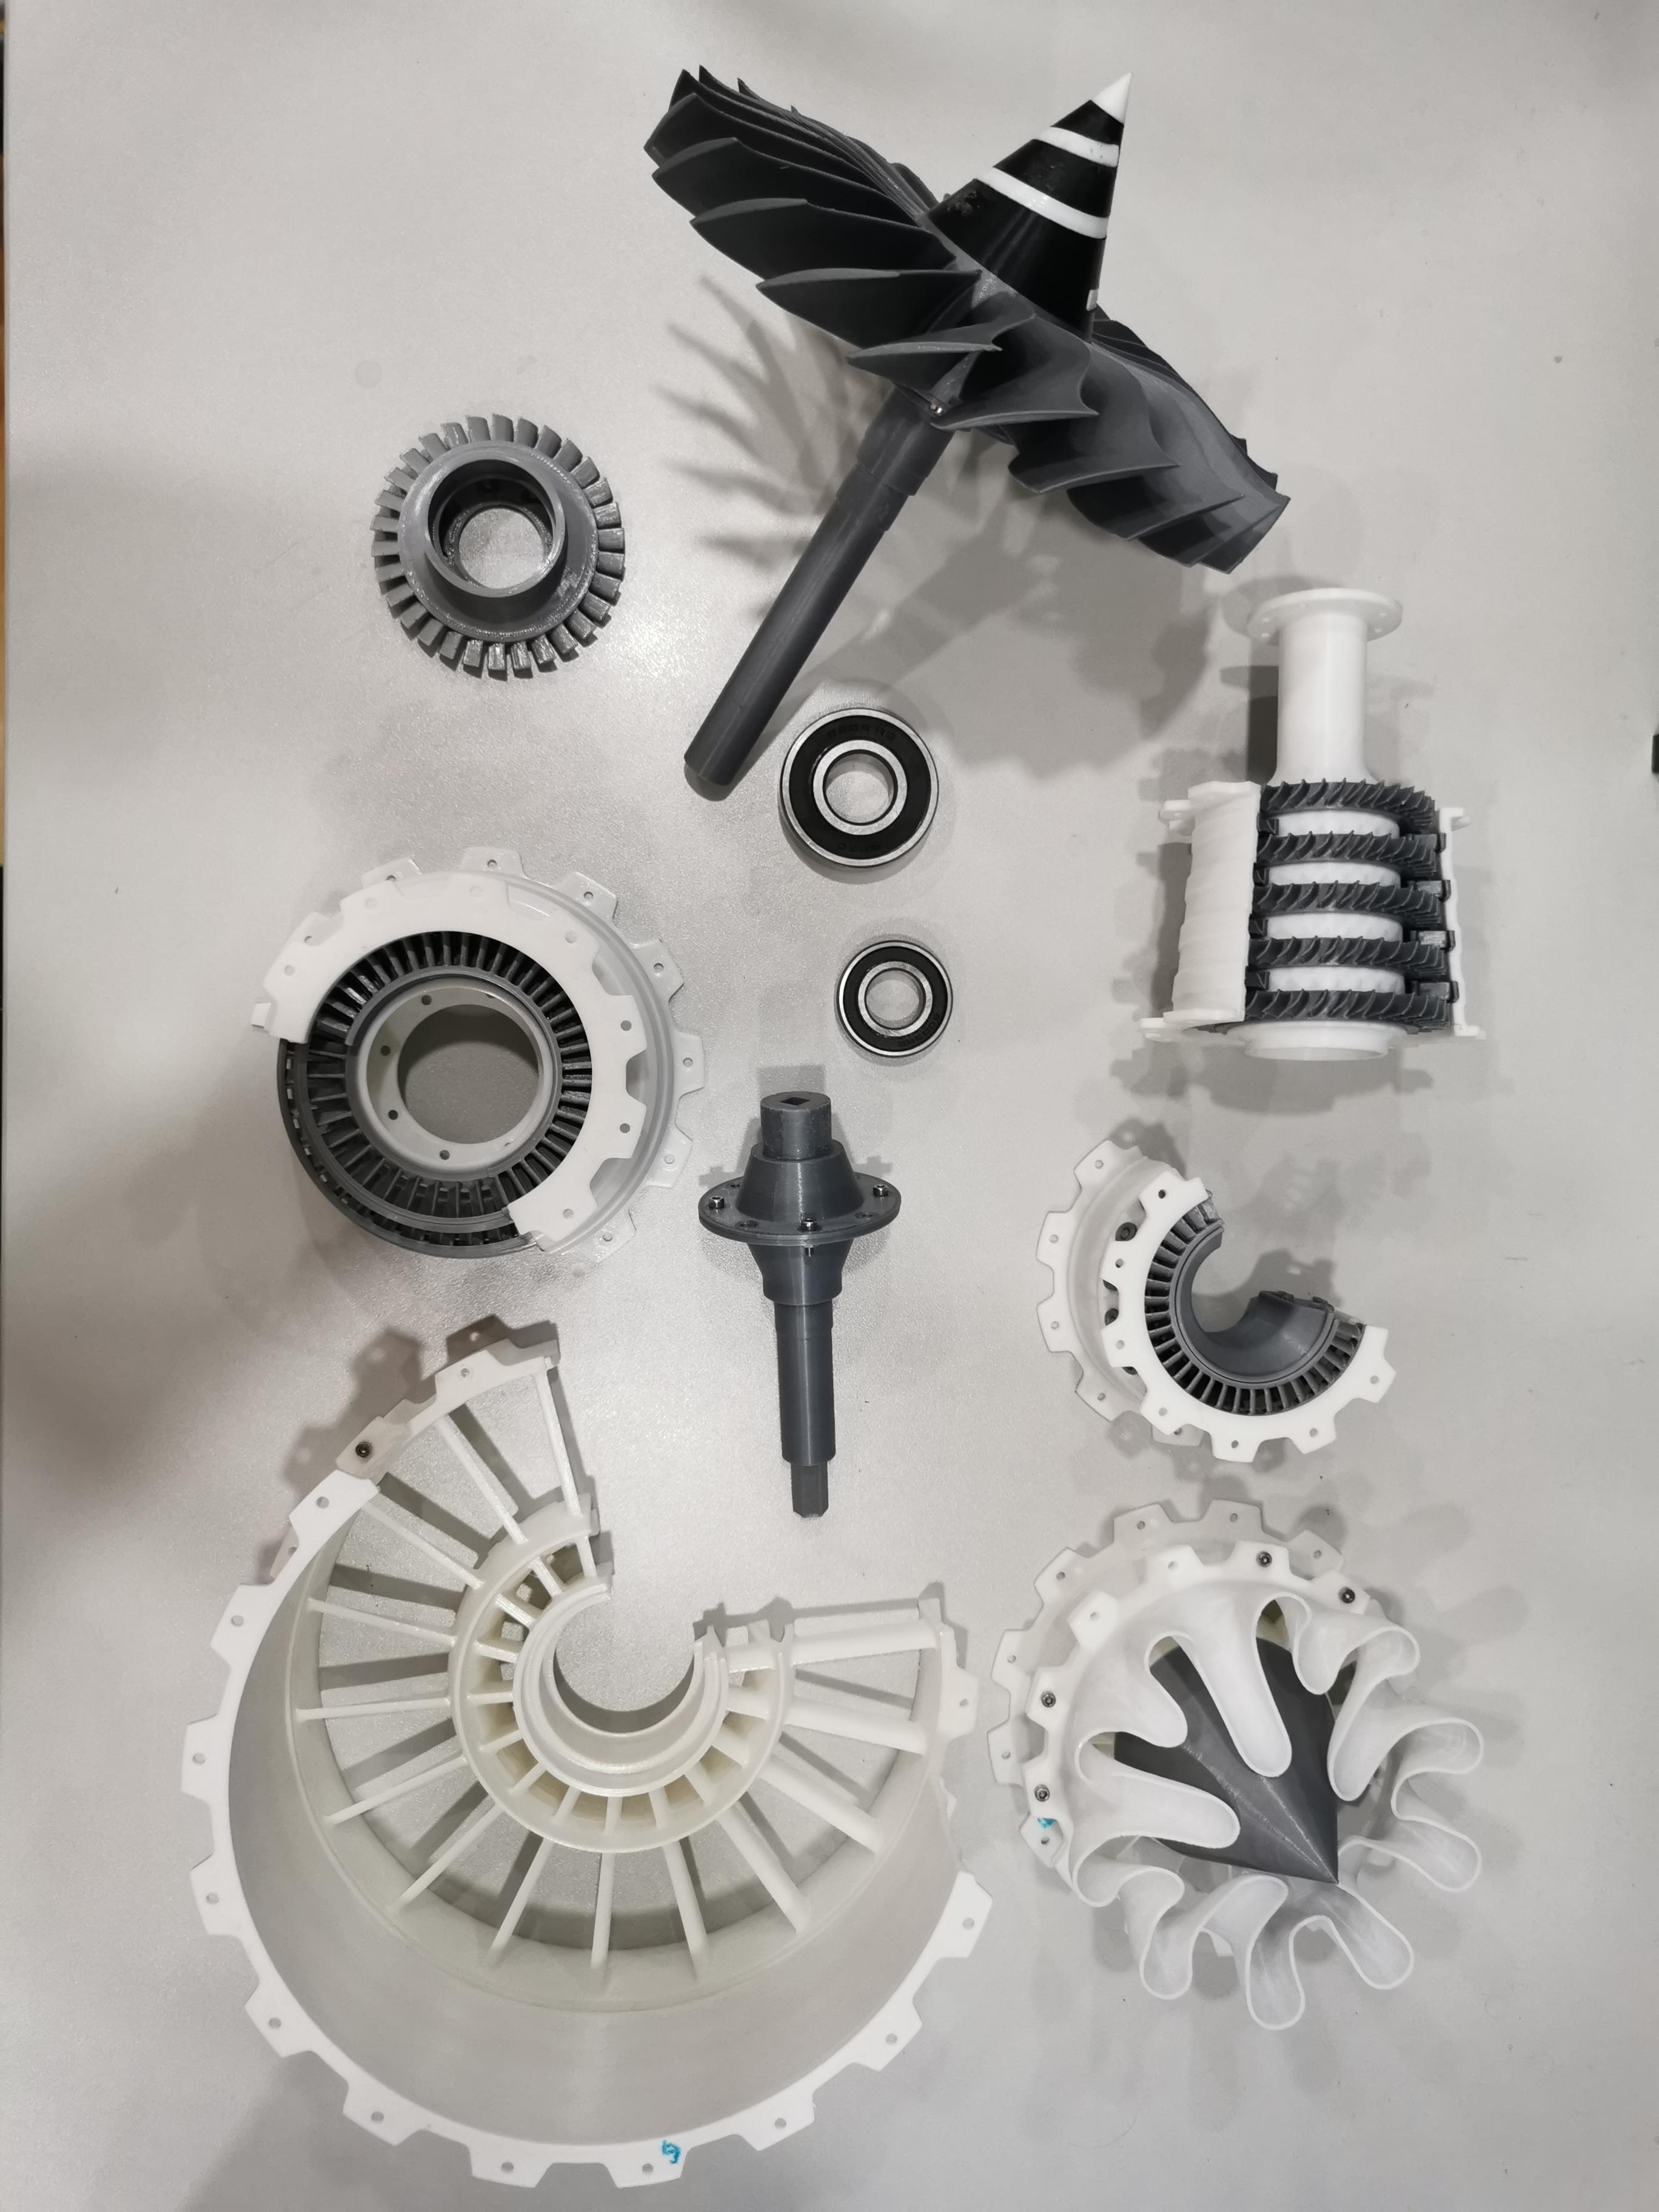Bearing-6003: (816, 921, 983, 1082)
Bearing-6204: (769, 691, 967, 892)
Combustion Section: (1026, 1129, 1415, 1487)
Fan Casing and Support: (166, 1322, 981, 2195)
Fan and Low Pressure Shaft: (622, 54, 1295, 801)
HPT Section: (343, 390, 640, 705)
High Pressure Spool: (1131, 561, 1488, 1106)
LPT Section: (239, 836, 709, 1287)
Low Pressure Spool: (692, 1080, 913, 1534)
Nozzle Section: (983, 1491, 1495, 2040)
